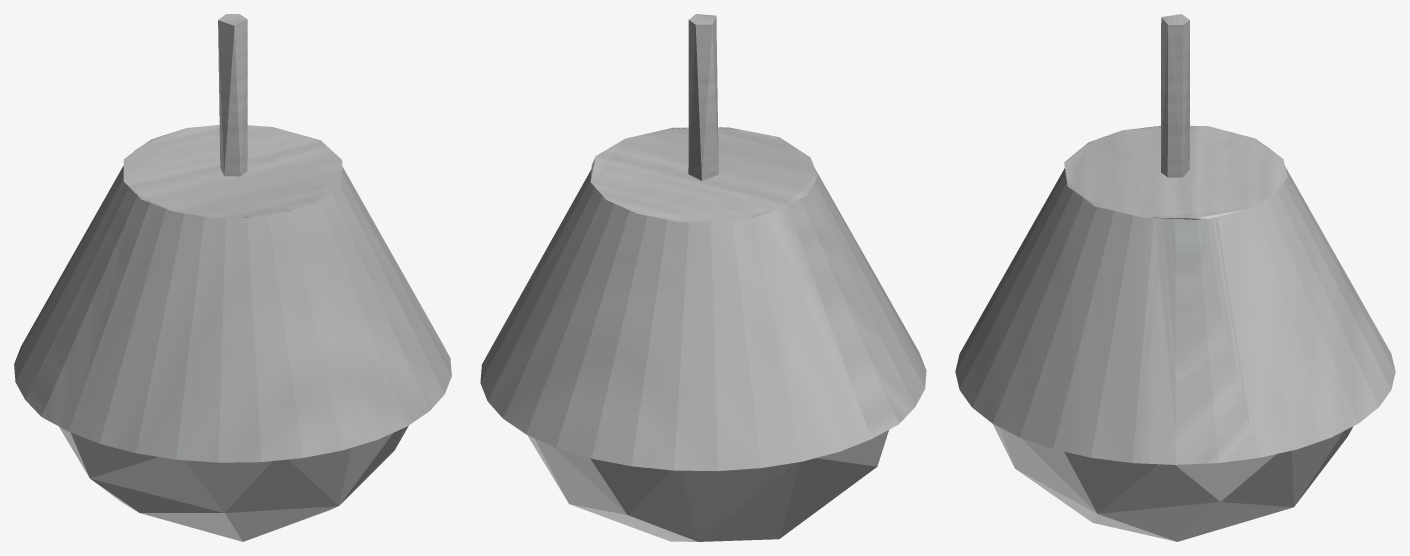
The model's file is foco2-base.fbx.
3 views of the same model, side by side, from view 1: azimuth 30°, elevation 25°; view 2: azimuth 150°, elevation 25°; view 3: azimuth 270°, elevation 25° (orthographic).
Visible parts, largest first — view 1: Cilindro, Esfera; view 2: Cilindro, Esfera; view 3: Cilindro, Esfera.
Part boxes in pixels (box(x1,y1,x2,y2)): Cilindro: box(14, 14, 451, 462); Esfera: box(59, 425, 408, 541); Cilindro: box(480, 14, 926, 471); Esfera: box(527, 430, 888, 541); Cilindro: box(955, 14, 1395, 464); Esfera: box(993, 424, 1353, 541).
Bounding box in the file's own units: 3154 × 3938 × 3140.
Materials: 1 (1 with a texture image).
